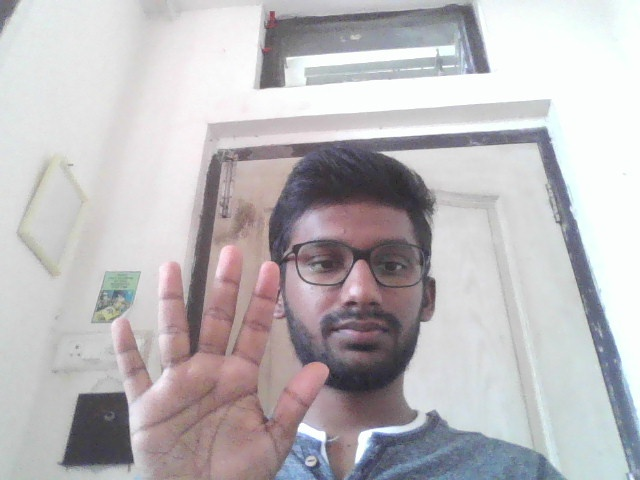Hello: (100, 244, 335, 480)
